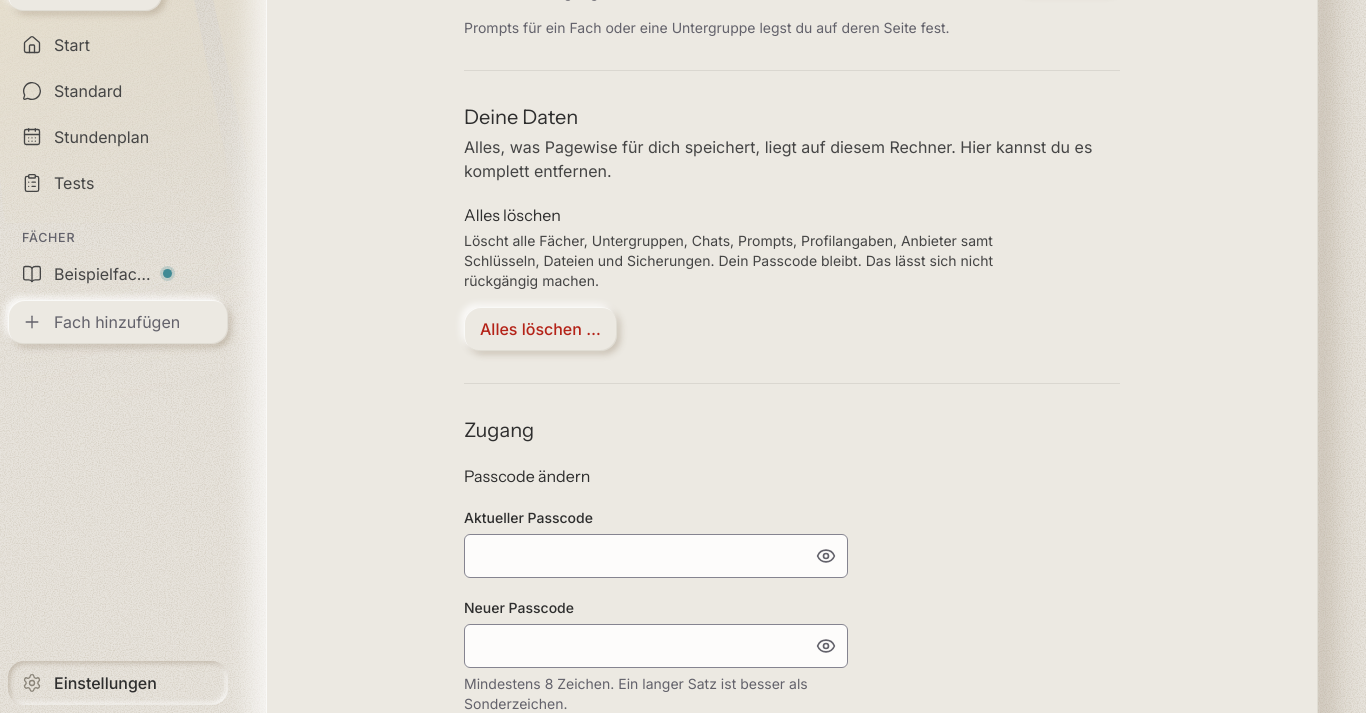
it: Alles löschen › zeigt Fehler verständlich und bleibt offen
(page scrolled)
Click the button "Alles löschen …" at [540, 329], box x1=464 y1=307 x2=617 y2=351
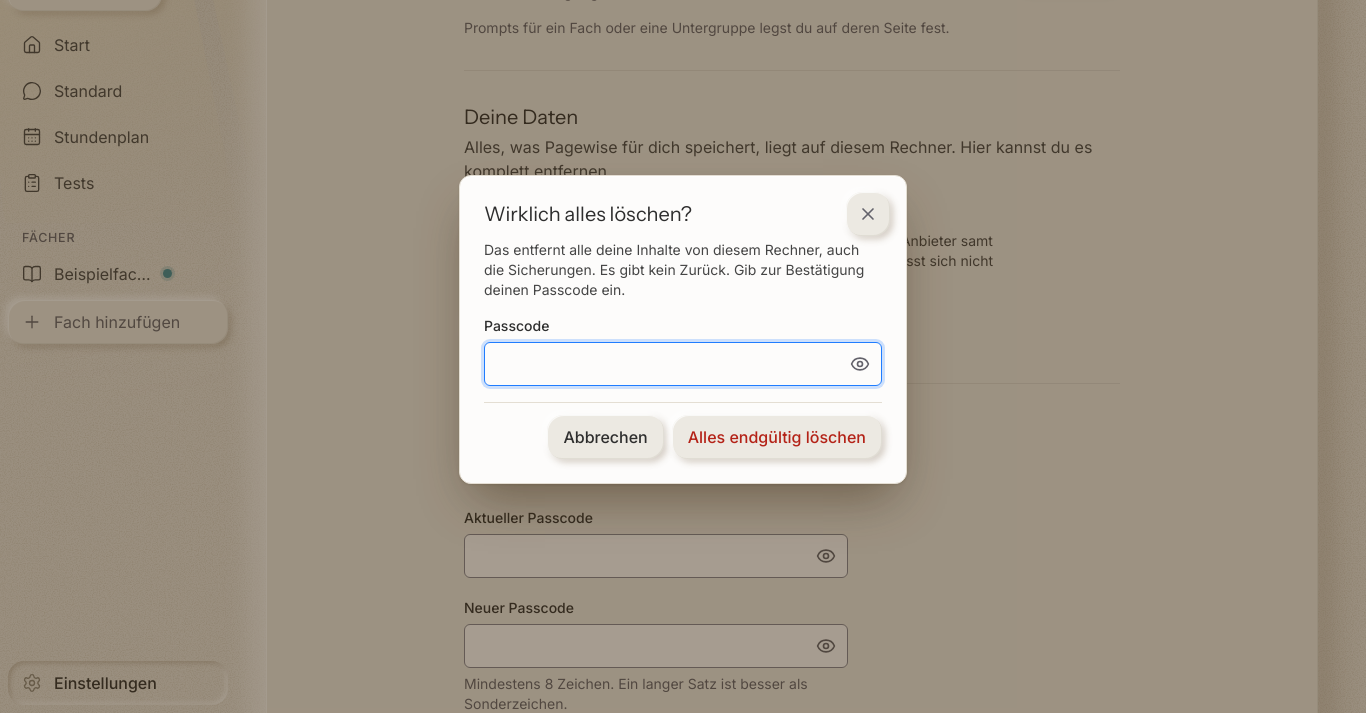
Type "ein erfundener Beispiel-Passcode" into the password field labelled "Passcode" at [683, 364], box x1=484 y1=342 x2=882 y2=386
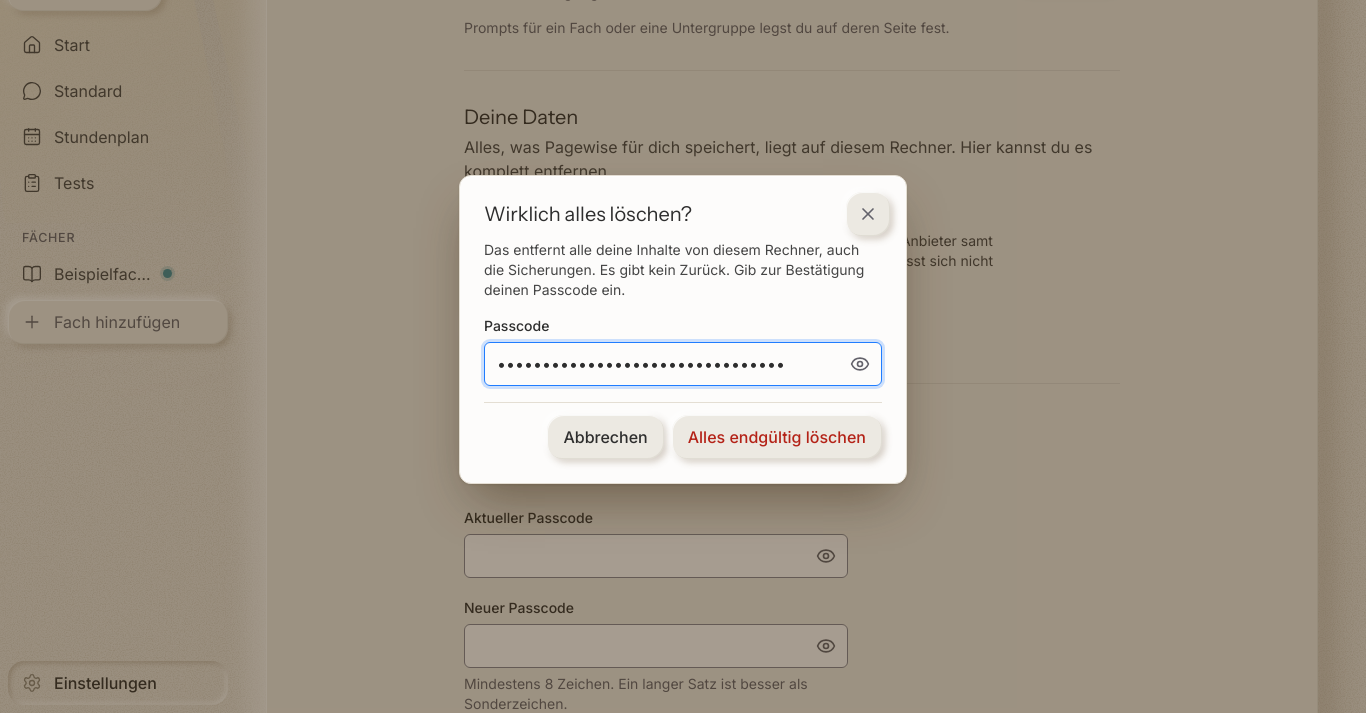
Click the button "Alles endgültig löschen" at [777, 436], box x1=672 y1=414 x2=882 y2=458
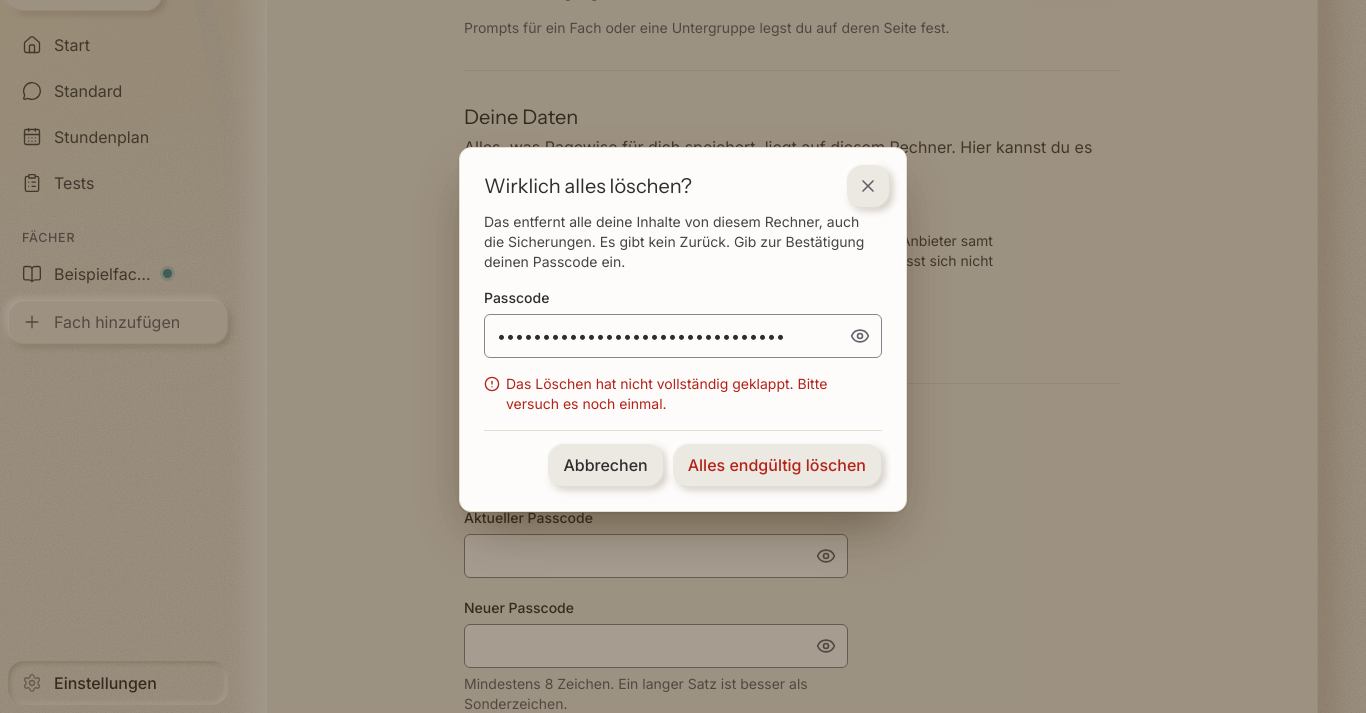
Now the text "nicht vollständig geklappt" is shown, box x1=506 y1=374 x2=827 y2=412
